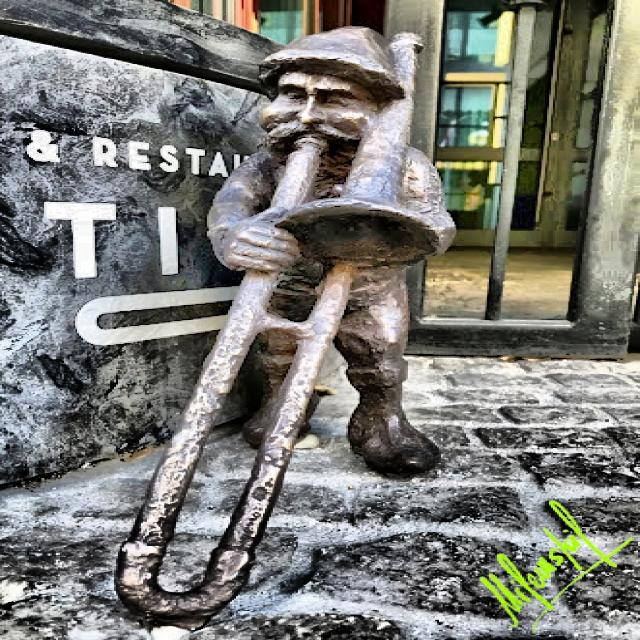Vertigus: (116, 29, 455, 628)
